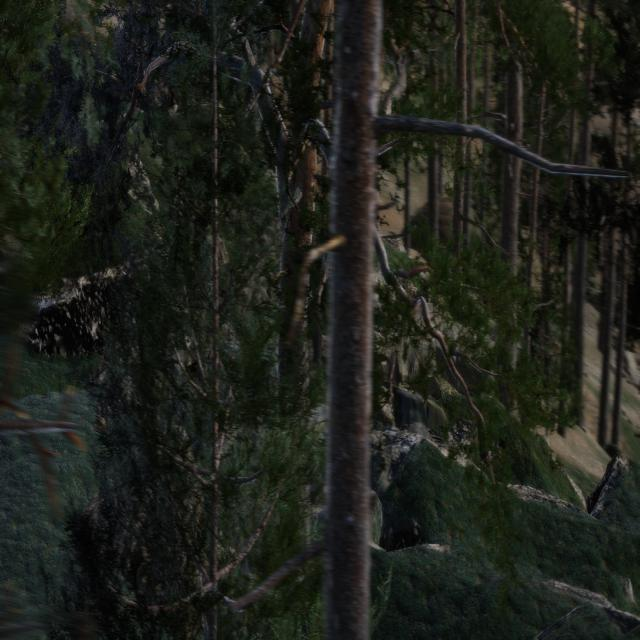Human: (307, 251, 333, 365)
